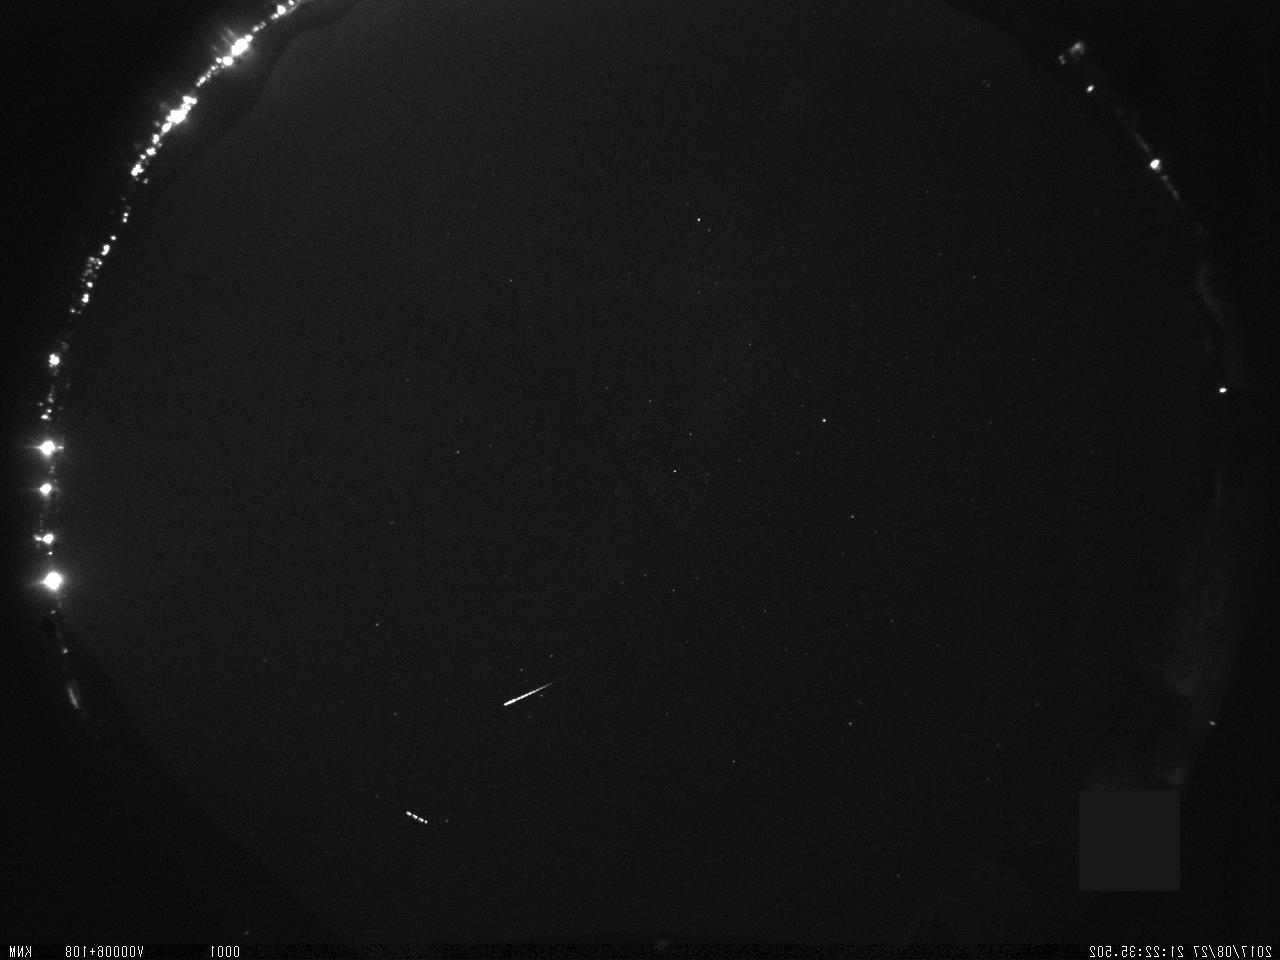meteor: (497, 675, 561, 709)
satelite: (399, 805, 434, 831)
